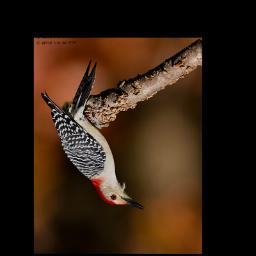Woodpecker: (39, 56, 145, 212)
